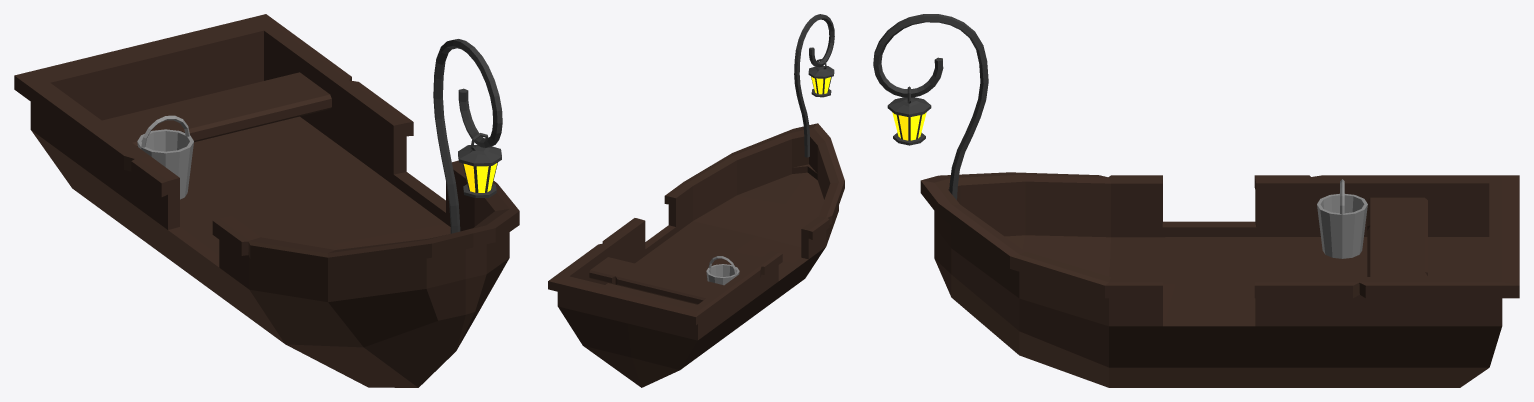
File: Boat(Basic w_ light).fbx
The picture shows the model from 3 angles, left to right: view 1: azimuth 30°, elevation 25°; view 2: azimuth 150°, elevation 25°; view 3: azimuth 270°, elevation 25°; orthographic projection. The views are drawn at different scales.
Parts seen in each view (by area): view 1: Cube, Cylinder, Bucket, Cube.001; view 2: Cube, Cylinder, Cube.001, Bucket; view 3: Cube, Cylinder, Bucket, Cube.001.
Boxes of the visible parts, left/top/right/bottom form: Cube: left=14, top=14, right=519, bottom=387; Cylinder: left=433, top=39, right=502, bottom=233; Bucket: left=137, top=115, right=193, bottom=199; Cube.001: left=458, top=133, right=501, bottom=197; Cube: left=548, top=123, right=844, bottom=387; Cylinder: left=794, top=14, right=834, bottom=157; Cube.001: left=808, top=59, right=834, bottom=97; Bucket: left=706, top=256, right=739, bottom=285; Cube: left=920, top=172, right=1519, bottom=387; Cylinder: left=873, top=14, right=988, bottom=199; Bucket: left=1317, top=179, right=1367, bottom=258; Cube.001: left=887, top=86, right=931, bottom=145.
Bounding box in the file's own units: 513 × 808 × 1269.
